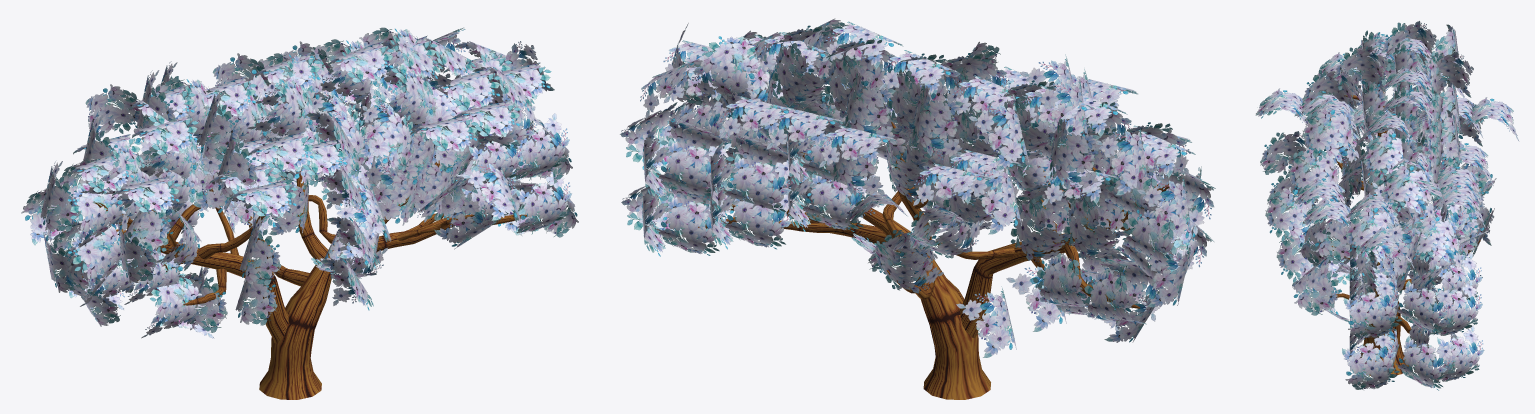
Rendered from Arbol1.fbx.
The picture shows the model from 3 angles, left to right: view 1: azimuth 30°, elevation 25°; view 2: azimuth 150°, elevation 25°; view 3: azimuth 270°, elevation 25°; orthographic projection. The views are drawn at different scales.
Parts seen in each view (by area): view 1: Cylinder001, Plane109, Plane010, Plane008, Plane046, Plane053, Plane040, Plane131, Plane002, Cylinder005, Plane140, Plane148 (+84 smaller); view 2: Cylinder001, Plane106, Plane064, Plane047, Plane067, Plane139, Plane140, Plane070, Plane073, Cylinder005, Plane079, Plane091 (+80 smaller); view 3: Plane129, Plane125, Plane126, Plane123, Plane128, Plane127, Plane136, Plane110, Plane153, Plane124, Plane147, Plane065 (+71 smaller).
Part boxes in pixels (bbox=[...]): Cylinder001: bbox=[259, 160, 439, 399]; Plane109: bbox=[358, 102, 415, 171]; Plane010: bbox=[67, 180, 123, 251]; Plane008: bbox=[68, 223, 122, 294]; Plane046: bbox=[516, 168, 571, 233]; Plane053: bbox=[514, 113, 569, 179]; Plane040: bbox=[363, 163, 418, 225]; Plane131: bbox=[247, 80, 315, 136]; Plane002: bbox=[141, 271, 201, 338]; Cylinder005: bbox=[94, 201, 288, 342]; Plane140: bbox=[85, 84, 140, 140]; Plane148: bbox=[239, 216, 281, 285]; Cylinder001: bbox=[796, 141, 990, 399]; Plane106: bbox=[692, 36, 760, 99]; Plane064: bbox=[657, 138, 731, 200]; Plane047: bbox=[657, 193, 728, 255]; Plane067: bbox=[723, 154, 798, 214]; Plane139: bbox=[912, 84, 964, 160]; Plane140: bbox=[1049, 117, 1101, 192]; Plane070: bbox=[723, 189, 797, 249]; Plane073: bbox=[801, 173, 875, 231]; Cylinder005: bbox=[960, 184, 1169, 337]; Plane079: bbox=[1063, 196, 1126, 259]; Plane091: bbox=[772, 42, 835, 106]; Plane129: bbox=[1302, 107, 1356, 165]; Plane125: bbox=[1343, 278, 1402, 339]; Plane126: bbox=[1342, 331, 1399, 389]; Plane123: bbox=[1381, 163, 1436, 222]; Plane128: bbox=[1395, 280, 1456, 334]; Plane127: bbox=[1395, 335, 1457, 390]; Plane136: bbox=[1265, 187, 1316, 245]; Plane110: bbox=[1292, 253, 1341, 315]; Plane153: bbox=[1408, 214, 1464, 271]; Plane124: bbox=[1345, 205, 1400, 263]; Plane147: bbox=[1333, 46, 1388, 92]; Plane065: bbox=[1430, 280, 1482, 335].
Size of the model in its own units: 159 by 96.26 by 77.97.
2 materials, 2 textured.
